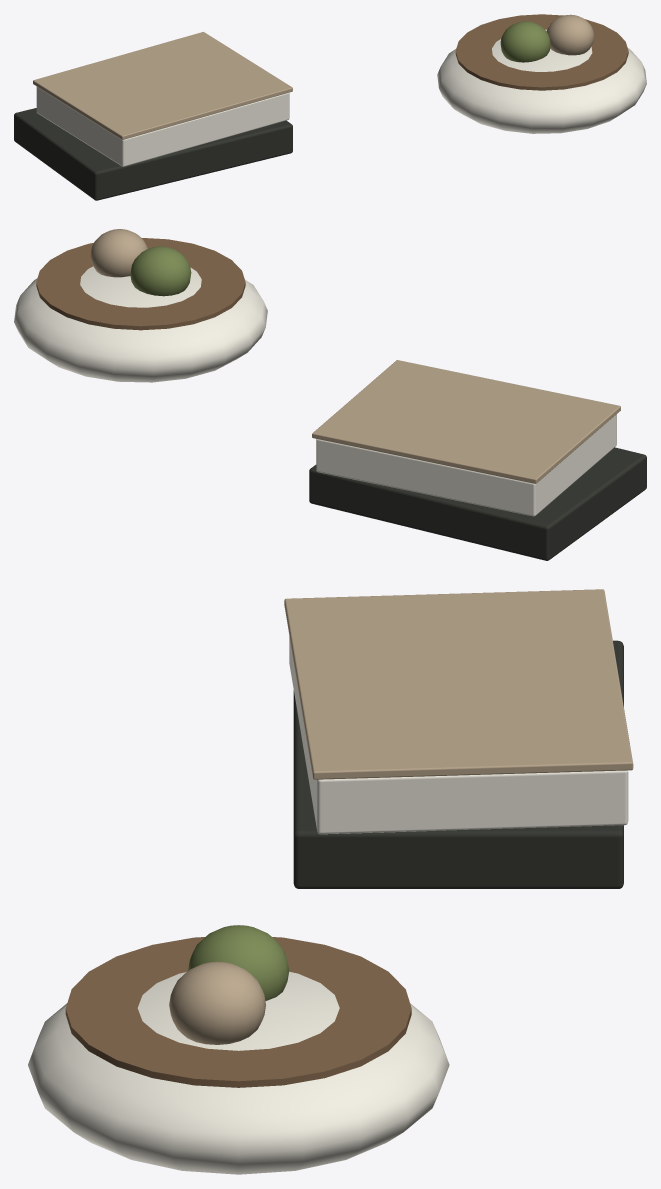
File: coffee-table-styling.glb
3 renders of one model, top to bottom at view 1: azimuth 30°, elevation 25°; view 2: azimuth 150°, elevation 25°; view 3: azimuth 270°, elevation 25°, orthographic. The views are drawn at different scales.
Visible parts, largest first — view 1: studio/sand, studio/ceramic, studio/charcoal, studio/cream, studio/oakDark, studio/leafLight; view 2: studio/sand, studio/ceramic, studio/charcoal, studio/cream, studio/oakDark, studio/leafLight; view 3: studio/sand, studio/ceramic, studio/oakDark, studio/charcoal, studio/cream, studio/leafLight.
Part boxes in pixels (bbox=[...]): studio/sand: bbox=[33, 14, 594, 139]; studio/ceramic: bbox=[437, 29, 646, 133]; studio/charcoal: bbox=[14, 108, 292, 200]; studio/cream: bbox=[36, 86, 289, 166]; studio/oakDark: bbox=[455, 14, 628, 90]; studio/leafLight: bbox=[500, 21, 550, 62]; studio/sand: bbox=[90, 229, 620, 483]; studio/ceramic: bbox=[14, 266, 267, 382]; studio/charcoal: bbox=[309, 447, 646, 560]; studio/cream: bbox=[316, 414, 616, 516]; studio/oakDark: bbox=[36, 238, 245, 330]; studio/leafLight: bbox=[130, 246, 191, 296]; studio/sand: bbox=[169, 589, 633, 1044]; studio/ceramic: bbox=[28, 971, 449, 1174]; studio/oakDark: bbox=[65, 937, 411, 1087]; studio/charcoal: bbox=[293, 640, 623, 888]; studio/cream: bbox=[289, 636, 628, 834]; studio/leafLight: bbox=[188, 925, 289, 1000].
Bounding box in the file's own units: 0.66 × 0.1115 × 0.3301.
